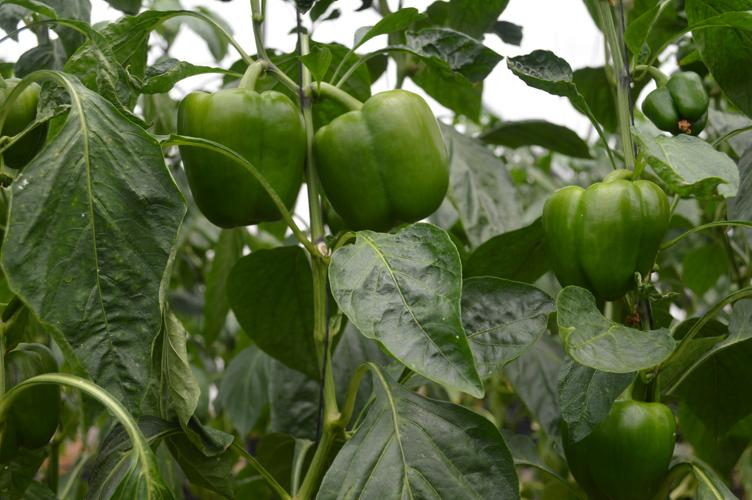BellPepper: (177, 87, 309, 228), (320, 91, 451, 230), (546, 180, 666, 297), (563, 399, 675, 497), (9, 344, 63, 450), (645, 68, 710, 135)
